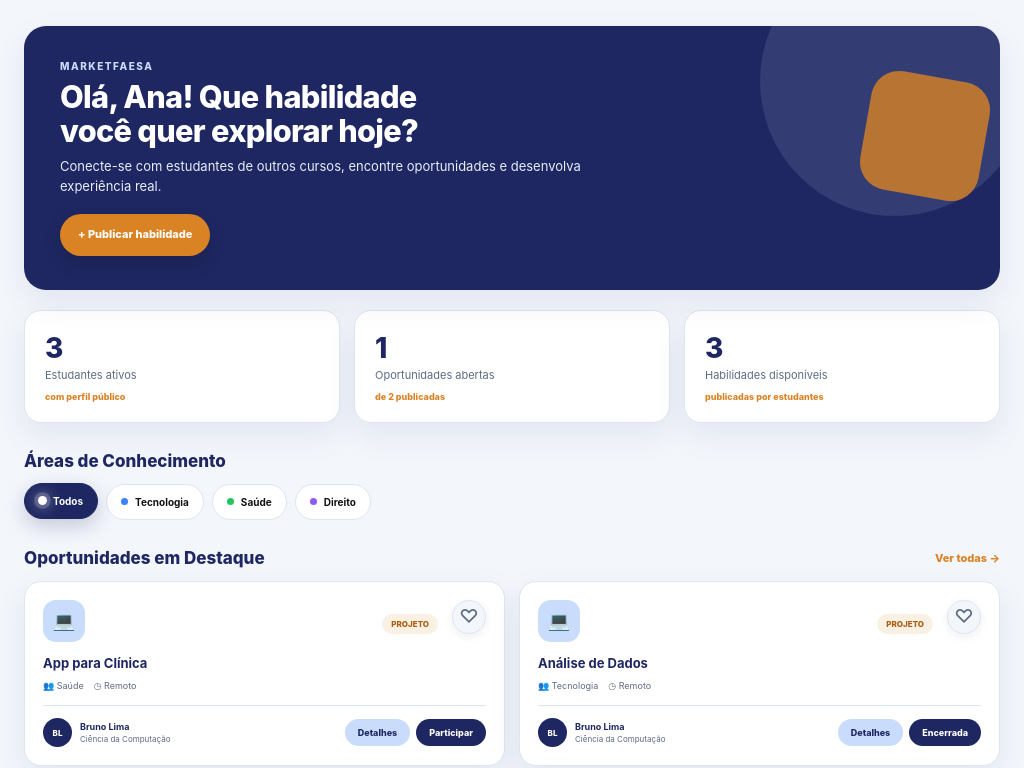
Test case: Página inicial › filtra os destaques pela área e desabilita participar de oportunidade encerrada
Expected: the heading "Análise de Dados" is shown, [538, 655, 648, 671]
Expected: the button "Encerrada" is disabled, [909, 719, 981, 746]
Click the button "Saúde": [249, 502] box [212, 484, 287, 520]
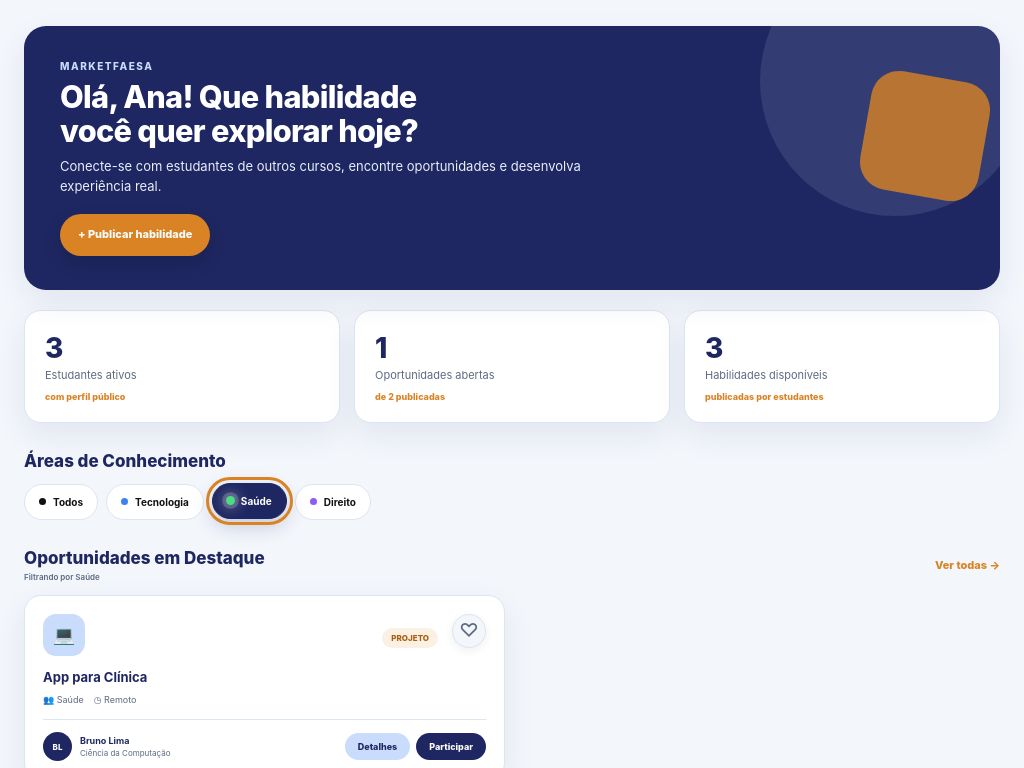
Expected: the heading "App para Clínica" is shown, [43, 669, 147, 685]
Result: the button "Análise de Dados" is gone
